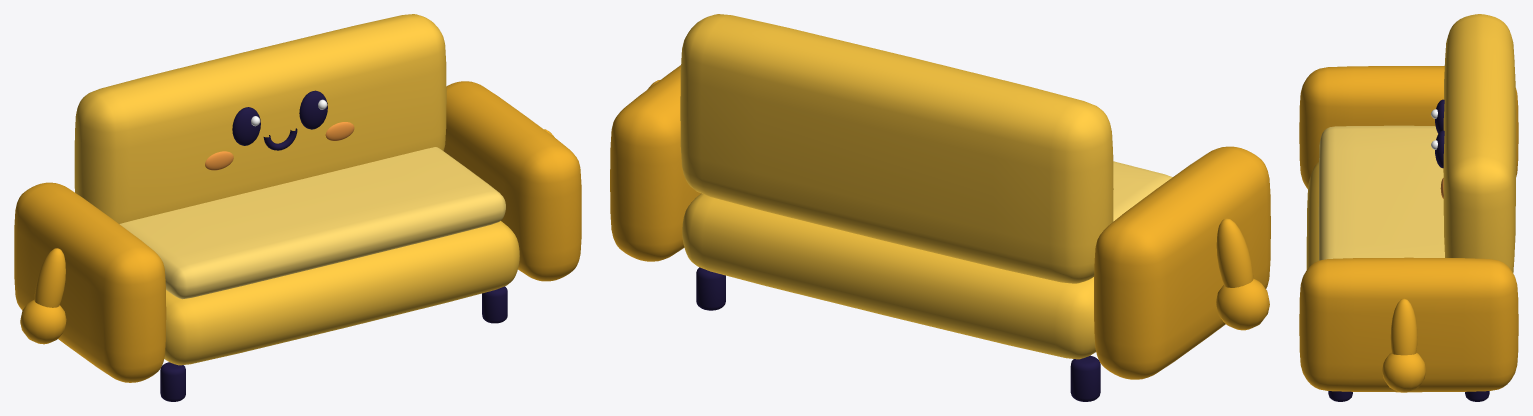
File: sofa.glb
3 renders of one model, left to right at view 1: azimuth 30°, elevation 25°; view 2: azimuth 150°, elevation 25°; view 3: azimuth 270°, elevation 25°, orthographic. The views are drawn at different scales.
Parts seen in each view (by area): view 1: Спинка, Подушка, Сиденье, Подлокотник, Подлокотник.001, Ладошка L, Рука L, Ножка 00, Ножка 10, Глаз R, Глаз L; view 2: Спинка, Сиденье, Подлокотник, Подлокотник.001, Ладошка L, Рука L, Подушка, Ножка 01, Ножка 11; view 3: Подлокотник.001, Спинка, Подушка, Подлокотник, Ладошка R, Рука R, Сиденье, Глаз R, Глаз L, Ножка 10, Ножка 11.
Part boxes in pixels (box(x1,y1,x2,y2)): Спинка: box(74, 14, 446, 223); Подушка: box(119, 147, 505, 299); Сиденье: box(164, 221, 519, 365); Подлокотник: box(14, 182, 166, 382); Подлокотник.001: box(444, 81, 581, 281); Ладошка L: box(20, 300, 66, 344); Рука L: box(34, 248, 65, 307); Ножка 00: box(160, 362, 185, 401); Ножка 10: box(482, 286, 507, 323); Глаз R: box(299, 90, 327, 129); Глаз L: box(232, 107, 260, 145); Спинка: box(680, 14, 1113, 283); Сиденье: box(682, 193, 1095, 359); Подлокотник: box(1094, 146, 1270, 379); Подлокотник.001: box(610, 65, 700, 261); Ладошка L: box(1216, 278, 1269, 330); Рука L: box(1216, 218, 1253, 287); Подушка: box(1113, 161, 1172, 221); Ножка 01: box(1070, 355, 1100, 401); Ножка 11: box(696, 267, 725, 310); Подлокотник.001: box(1299, 257, 1518, 392); Спинка: box(1443, 14, 1515, 272); Подушка: box(1318, 125, 1444, 260); Подлокотник: box(1299, 66, 1518, 188); Ладошка R: box(1382, 352, 1426, 392); Рука R: box(1390, 298, 1417, 355); Сиденье: box(1306, 162, 1318, 269); Глаз R: box(1435, 130, 1444, 168); Глаз L: box(1435, 99, 1444, 133); Ножка 10: box(1328, 391, 1352, 401); Ножка 11: box(1465, 391, 1489, 401).
Size of the model in its own units: 2.48 by 1.08 by 0.8983.
